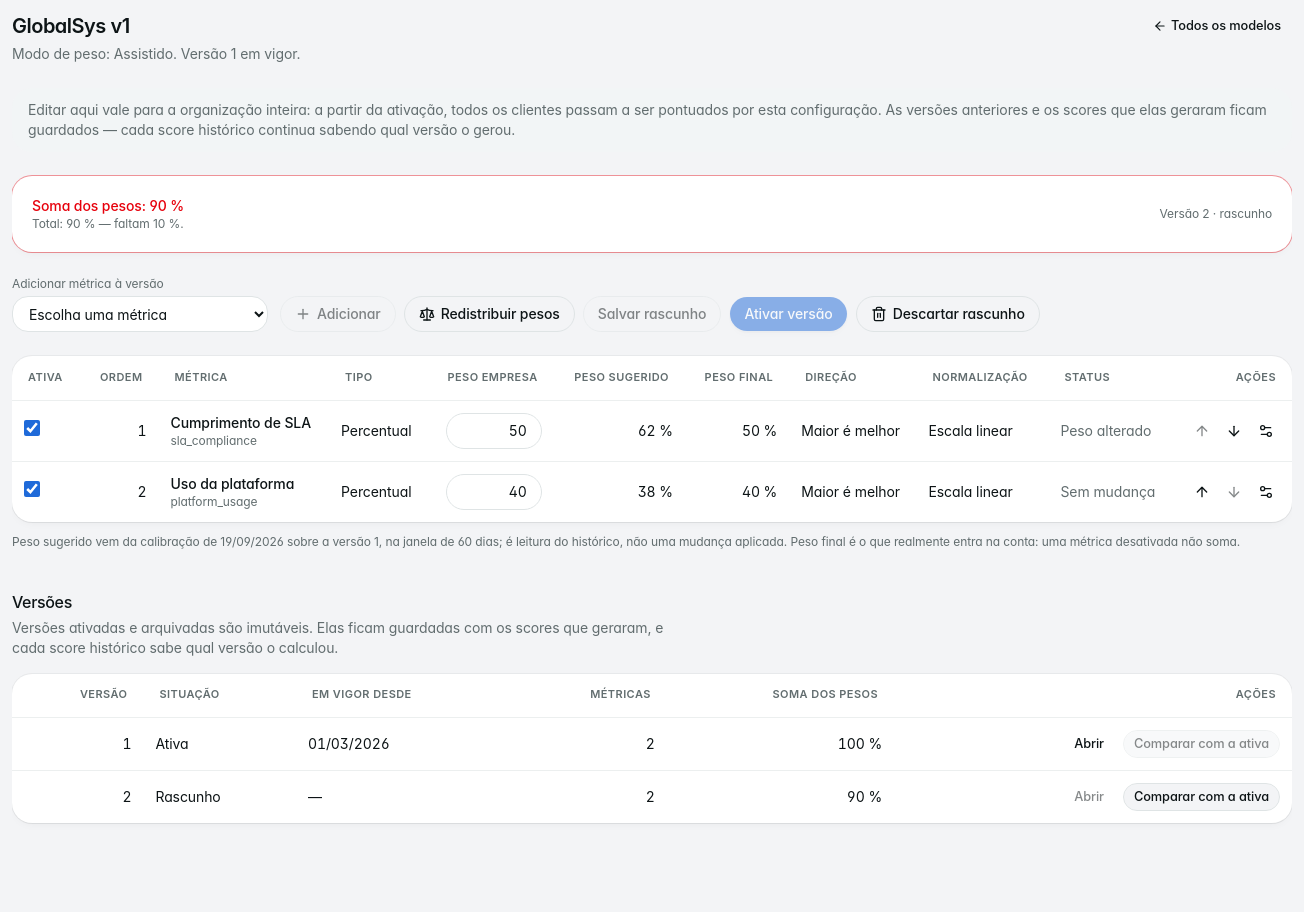
Scenario: MetricModelDetailPage (/metric-models/:id) — pesos › a proposta na tela tem precedência sobre a calibração
This screenshot has width=1304, height=912.
Expected: the text "62 %" is shown, [554,400,685,461]
What coordinates should you click on to do the following:
click the button "Redistribuir pesos"
I would click on:
 (489, 314)
Its box is [404,296,575,332].
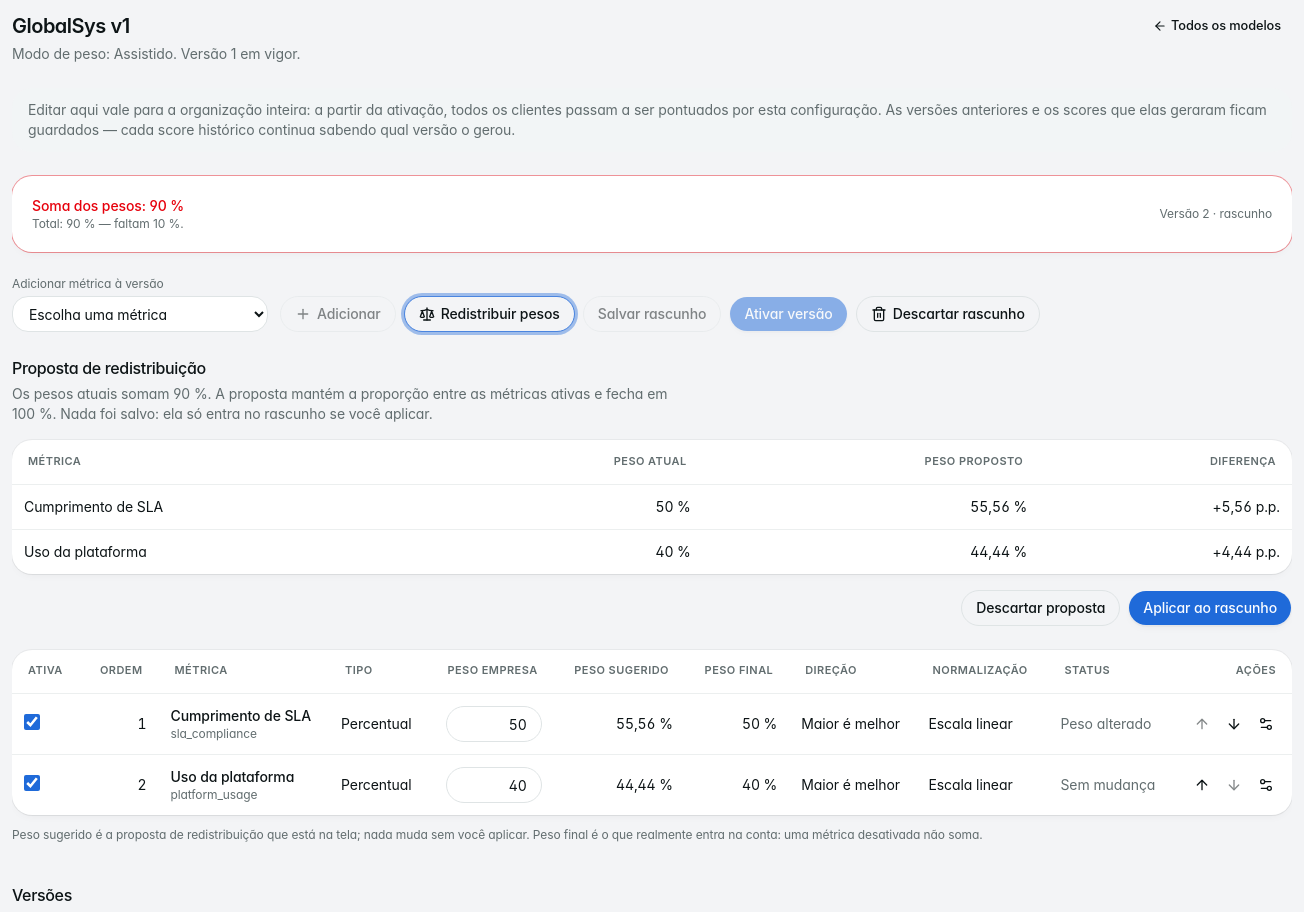
Expected: the table named "Proposta de redistribuição de pesos" is shown, [12,440,1292,574]
Expected: the text "55,56 %" in the row of "sla_compliance" is shown, [616,715,673,732]
Expected: the text "62 %" is gone
